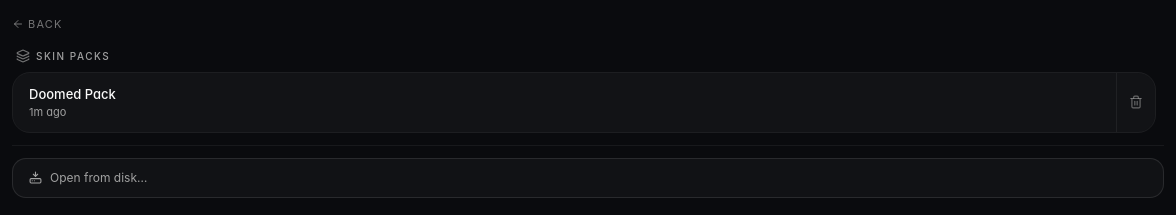
Scenario: SavedProjectsList › delete affordance › deleting the only row in a group hides the group header and falls back to empty state when nothing is left
Step 1. Click the button named "Delete Doomed Pack" → point(1136, 102), box [1116,72,1155,132]
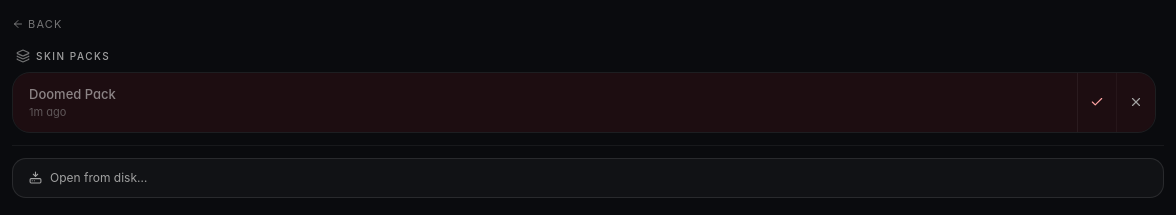
Step 2. Click the button with test id "confirm-delete" → point(1097, 102), box [1078,72,1116,132]
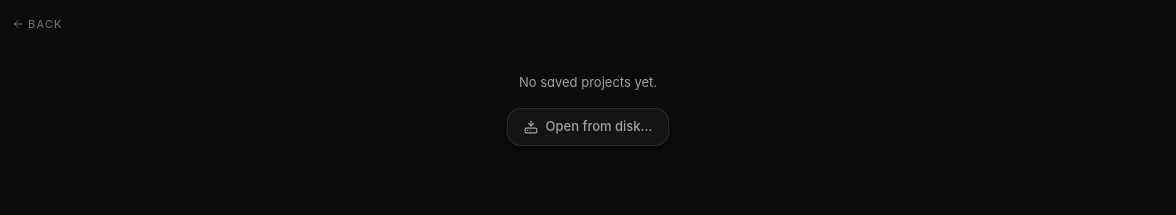
Expected: the text "No saved projects yet" is shown, [519,74,657,90]
